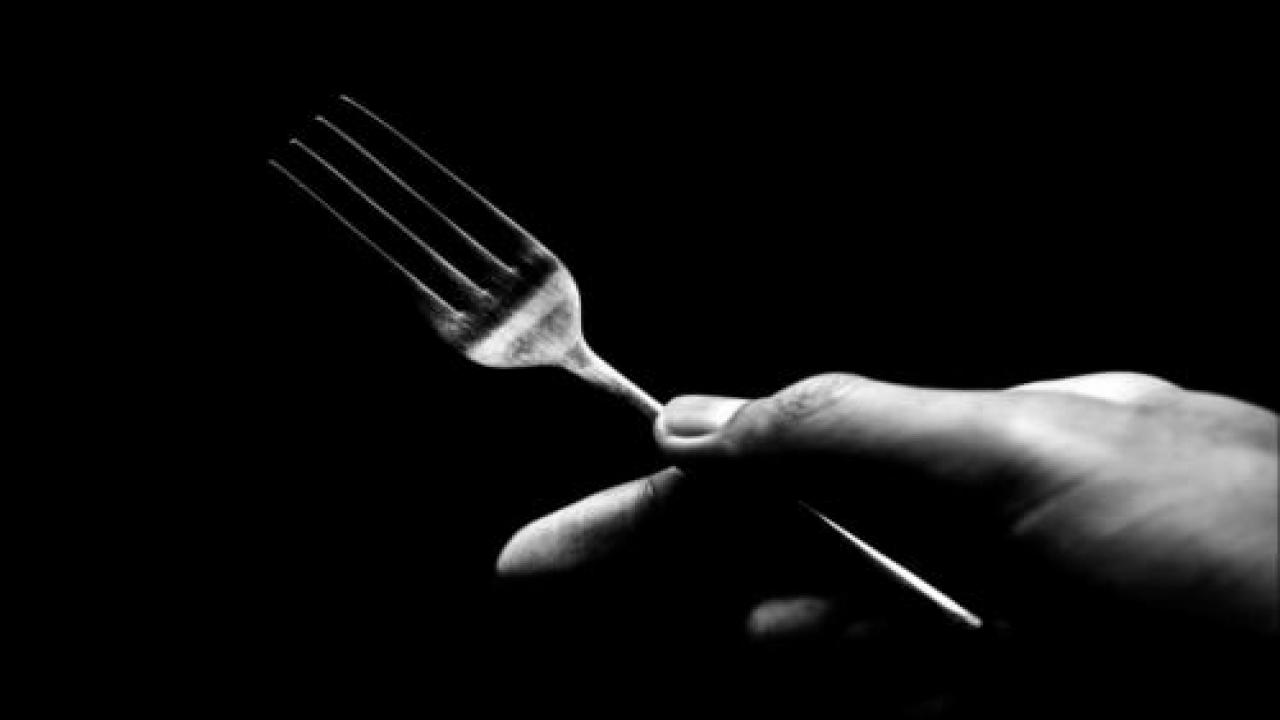fork: (264, 88, 983, 632)
